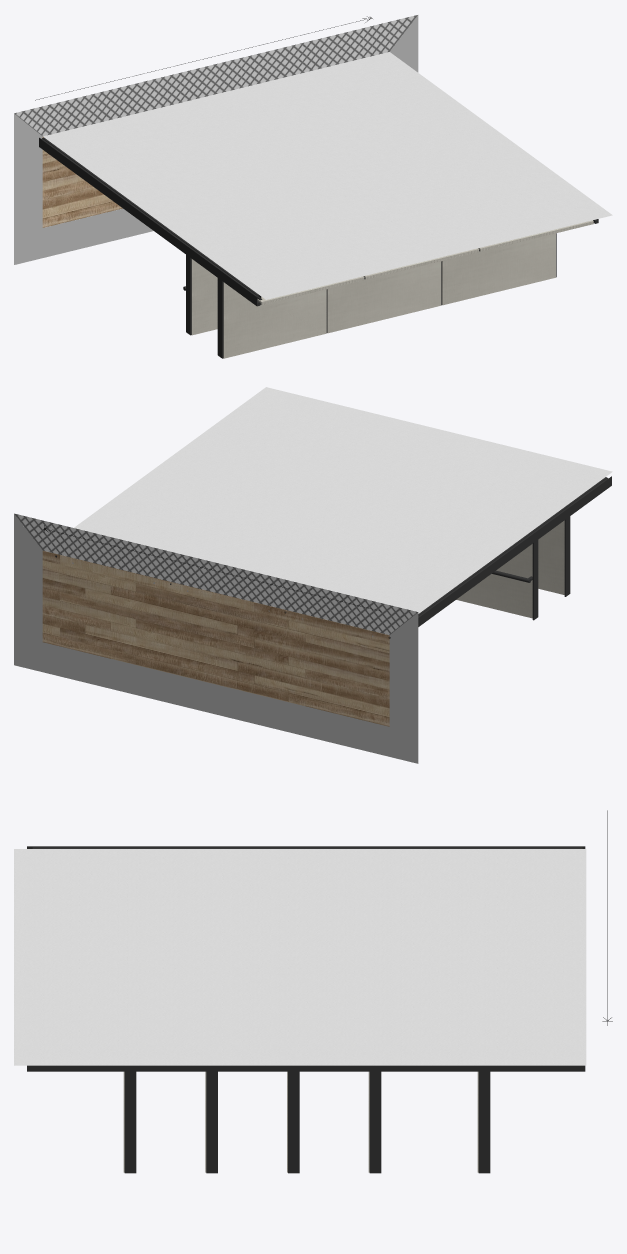
File: A3 Pantry V3 TI.OBJ
3 views of the same model, one above another, from view 1: azimuth 30°, elevation 25°; view 2: azimuth 150°, elevation 25°; view 3: azimuth 270°, elevation 25° (orthographic). The views are drawn at different scales.
Visible parts, largest first — view 1: Object_86, Object_87, Object_59, Object_62, Object_64, Object_93, Object_91, Object_85, Object_2, Object_56, Object_0, Object_89 (+5 smaller); view 2: Object_86, Object_85, Object_87, Object_91, Object_93, Object_89, Object_56, Object_2, Object_59, Object_0, Object_60, Object_57; view 3: Object_86, Object_48, Object_65, Object_79, Object_84, Object_69, Object_74, Object_2, Object_0.
Boxes of the visible parts, bbox=[...] form: Object_86: bbox=[43, 52, 612, 299]; Object_87: bbox=[14, 15, 417, 136]; Object_59: bbox=[223, 282, 326, 358]; Object_62: bbox=[327, 261, 441, 333]; Object_64: bbox=[442, 233, 555, 305]; Object_93: bbox=[14, 113, 42, 264]; Object_91: bbox=[14, 208, 153, 264]; Object_85: bbox=[42, 137, 122, 227]; Object_2: bbox=[39, 137, 260, 306]; Object_56: bbox=[191, 259, 217, 335]; Object_0: bbox=[41, 137, 262, 300]; Object_89: bbox=[390, 15, 418, 72]; Object_86: bbox=[74, 387, 612, 613]; Object_85: bbox=[42, 550, 389, 726]; Object_87: bbox=[14, 513, 417, 634]; Object_91: bbox=[14, 642, 417, 763]; Object_93: bbox=[389, 612, 418, 763]; Object_89: bbox=[14, 514, 42, 664]; Object_56: bbox=[456, 544, 532, 618]; Object_2: bbox=[418, 476, 611, 626]; Object_59: bbox=[538, 520, 564, 594]; Object_0: bbox=[418, 477, 608, 617]; Object_60: bbox=[564, 516, 570, 596]; Object_57: bbox=[532, 540, 538, 620]; Object_86: bbox=[14, 849, 586, 1065]; Object_48: bbox=[27, 1065, 585, 1071]; Object_65: bbox=[124, 1071, 136, 1173]; Object_79: bbox=[369, 1071, 381, 1173]; Object_84: bbox=[478, 1071, 490, 1173]; Object_69: bbox=[206, 1071, 217, 1173]; Object_74: bbox=[288, 1071, 299, 1173]; Object_2: bbox=[27, 846, 585, 848]; Object_0: bbox=[32, 847, 582, 848].
Bounding box in the file's own units: 2813 × 1034 × 2817.
11 materials, 11 textured.
